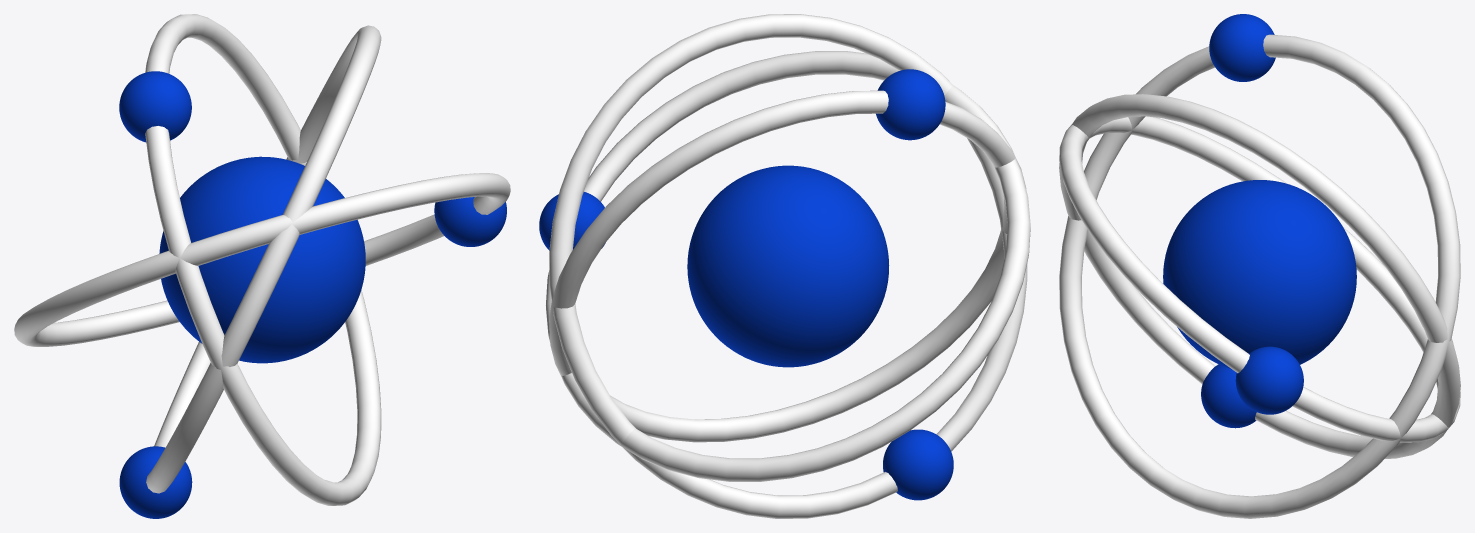
The model's file is react.glb.
3 renders of one model, left to right at view 1: azimuth 30°, elevation 25°; view 2: azimuth 150°, elevation 25°; view 3: azimuth 270°, elevation 25°, orthographic. The views are drawn at different scales.
Parts seen in each view (by area): view 1: Icosphere_9, BezierCircle.005_8, BezierCircle.003_6, BezierCircle.004_7, Icosphere.001_4, Icosphere.003_2, Icosphere.002_0; view 2: Icosphere_9, BezierCircle.004_7, BezierCircle.003_6, BezierCircle.005_8, Icosphere.003_2, Icosphere.001_4, Icosphere.002_0; view 3: BezierCircle.005_8, Icosphere_9, BezierCircle.004_7, BezierCircle.003_6, Icosphere.002_0, Icosphere.001_4, Icosphere.003_2.
Boxes of the visible parts, <box> form: Icosphere_9: <box>159,156,365,363</box>; BezierCircle.005_8: <box>145,14,381,505</box>; BezierCircle.003_6: <box>14,173,510,346</box>; BezierCircle.004_7: <box>146,25,381,493</box>; Icosphere.001_4: <box>119,71,191,142</box>; Icosphere.003_2: <box>119,446,192,518</box>; Icosphere.002_0: <box>434,197,506,246</box>; Icosphere_9: <box>687,165,889,367</box>; BezierCircle.004_7: <box>549,14,1027,518</box>; BezierCircle.003_6: <box>546,51,1030,481</box>; BezierCircle.005_8: <box>549,90,1026,442</box>; Icosphere.003_2: <box>883,429,953,500</box>; Icosphere.001_4: <box>876,69,945,140</box>; Icosphere.002_0: <box>539,192,605,250</box>; BezierCircle.005_8: <box>1059,34,1460,518</box>; Icosphere_9: <box>1163,180,1356,369</box>; BezierCircle.004_7: <box>1059,94,1460,458</box>; BezierCircle.003_6: <box>1059,116,1460,442</box>; Icosphere.002_0: <box>1235,346,1303,414</box>; Icosphere.001_4: <box>1209,14,1275,81</box>; Icosphere.003_2: <box>1201,364,1256,428</box>.
Bounding box in the file's own units: 3.14 × 2.8 × 2.49.
